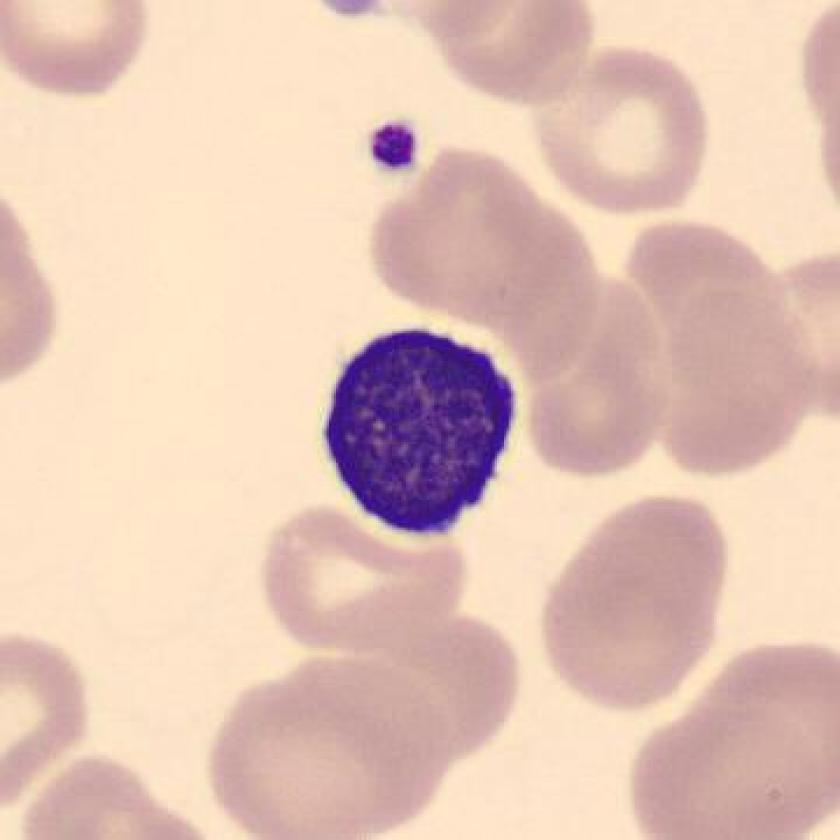lymphocyte: (304, 313, 540, 554)
